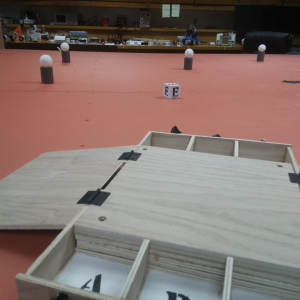obstacle: (39, 55, 54, 83), (182, 48, 194, 70), (59, 43, 71, 64), (256, 43, 267, 64)
slope: (1, 144, 138, 228)
